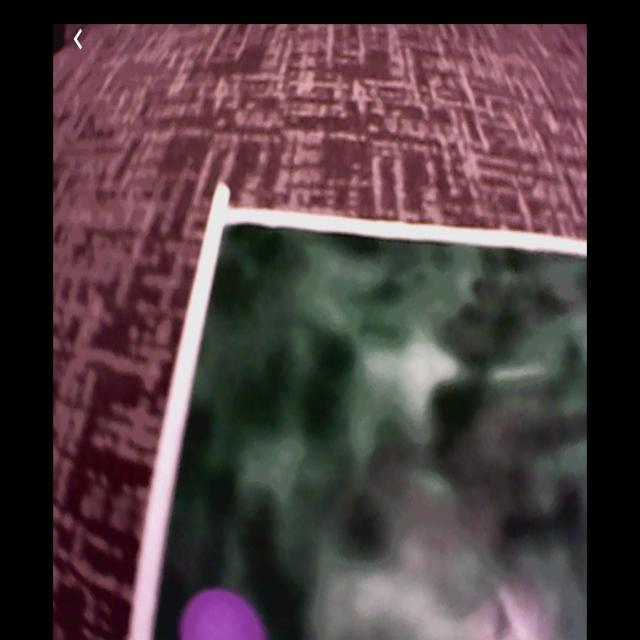ball: (179, 593, 267, 640)
